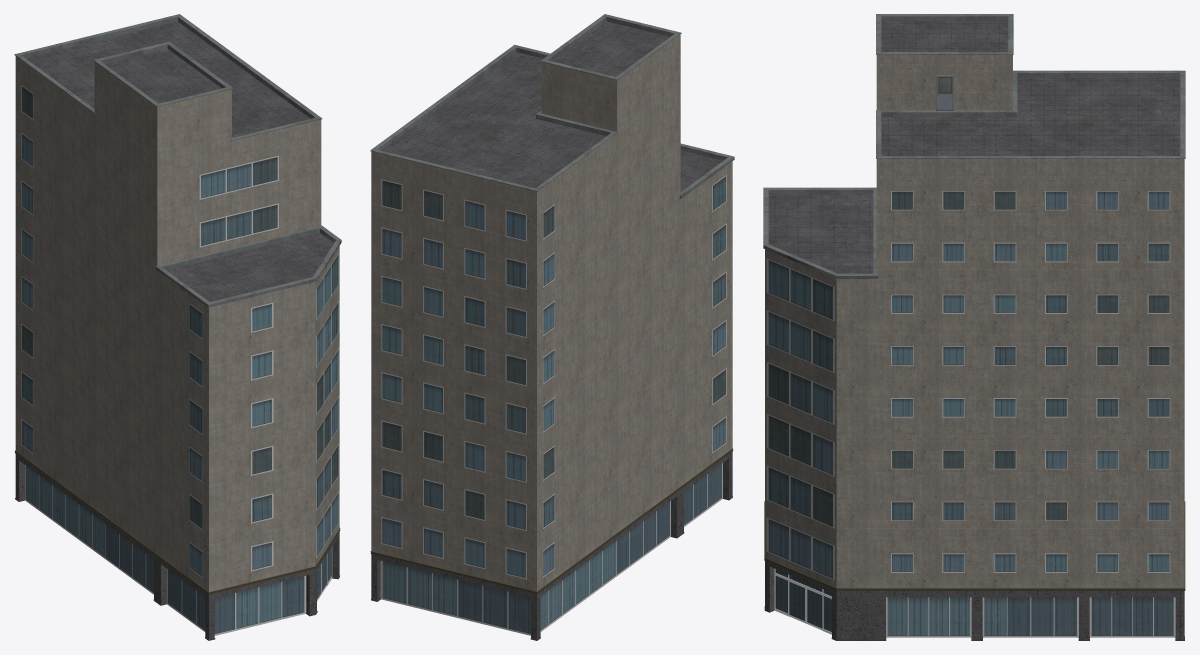
File: jctBld24_12B_low.fbx
3 renders of one model, left to right at view 1: azimuth 30°, elevation 25°; view 2: azimuth 150°, elevation 25°; view 3: azimuth 270°, elevation 25°, orthographic. The views are drawn at different scales.
Visible parts, largest first — view 1: jctBld24_12B_low; view 2: jctBld24_12B_low; view 3: jctBld24_12B_low.
Boxes of the visible parts, <box> form: jctBld24_12B_low: <box>14,14,341,640</box>; jctBld24_12B_low: <box>370,14,734,640</box>; jctBld24_12B_low: <box>763,14,1185,640</box>.
Bounding box in the file's own units: 1170 × 3335 × 2365.
